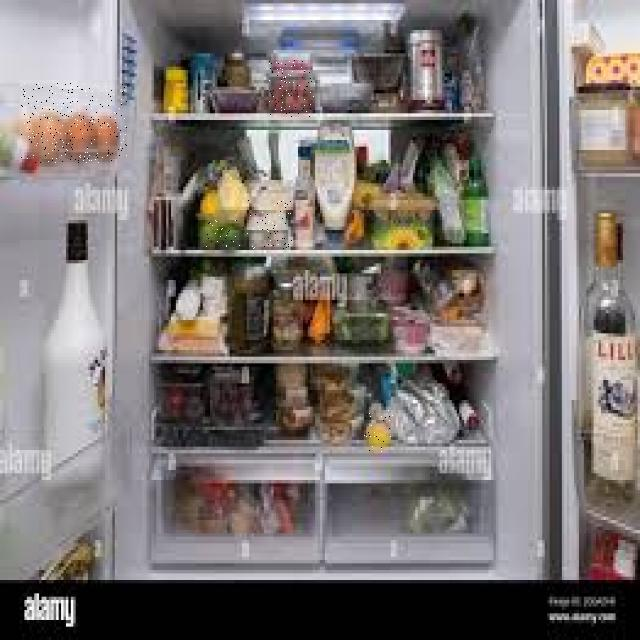eggs: (20, 84, 127, 164), (247, 200, 293, 250)
lemon: (364, 410, 393, 453)
lime: (205, 220, 249, 250)
tomatoes: (269, 60, 315, 117)
